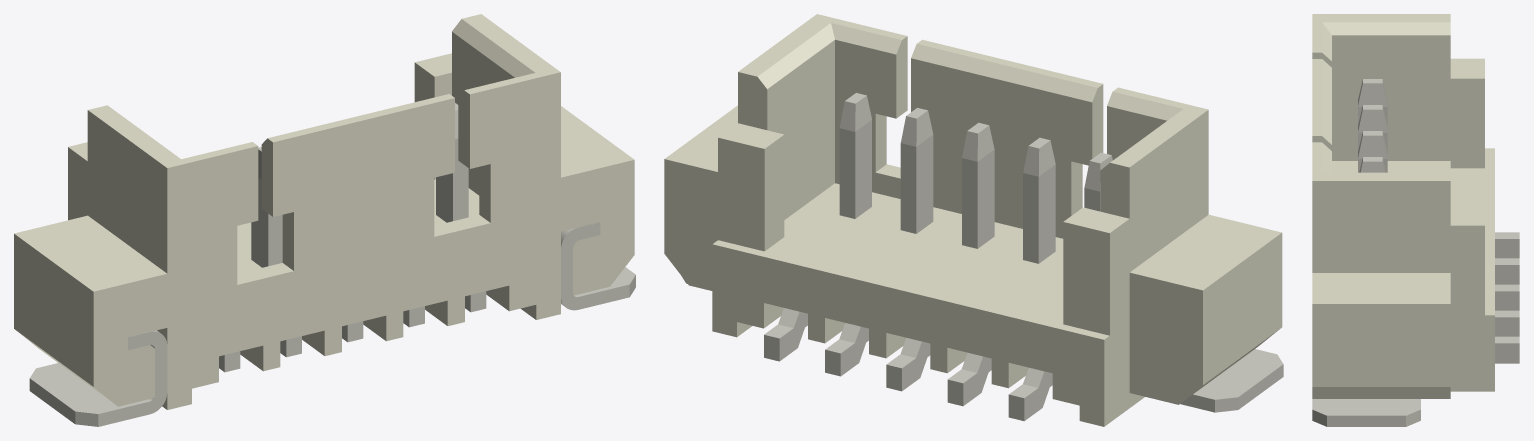
The model's file is kc-molex_picoblade_53398-0571_1x05-1mp_p1.25mm_vertical.glb.
3 views of the same model, side by side, from view 1: azimuth 30°, elevation 25°; view 2: azimuth 150°, elevation 25°; view 3: azimuth 270°, elevation 25° (orthographic). The views are drawn at different scales.
Visible parts, largest first — view 1: 0.75_0.75_0.5833333333333334_0, 0.6666666666666666_0.6666666666666666_0.5833333333333334_0.8; view 2: 0.75_0.75_0.5833333333333334_0, 0.6666666666666666_0.6666666666666666_0.5833333333333334_0.8; view 3: 0.75_0.75_0.5833333333333334_0, 0.6666666666666666_0.6666666666666666_0.5833333333333334_0.8.
Boxes of the visible parts, x1,y1,x2,y2 form: 0.75_0.75_0.5833333333333334_0: [14, 14, 634, 409]; 0.6666666666666666_0.6666666666666666_0.5833333333333334_0.8: [29, 103, 635, 426]; 0.75_0.75_0.5833333333333334_0: [664, 14, 1282, 426]; 0.6666666666666666_0.6666666666666666_0.5833333333333334_0.8: [682, 93, 1283, 421]; 0.75_0.75_0.5833333333333334_0: [1312, 14, 1494, 398]; 0.6666666666666666_0.6666666666666666_0.5833333333333334_0.8: [1312, 79, 1519, 426].
Size of the model in its own units: 1.14 by 0.47 by 0.42.
